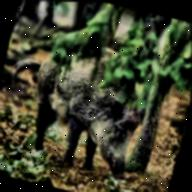boar: (21, 34, 155, 178)
